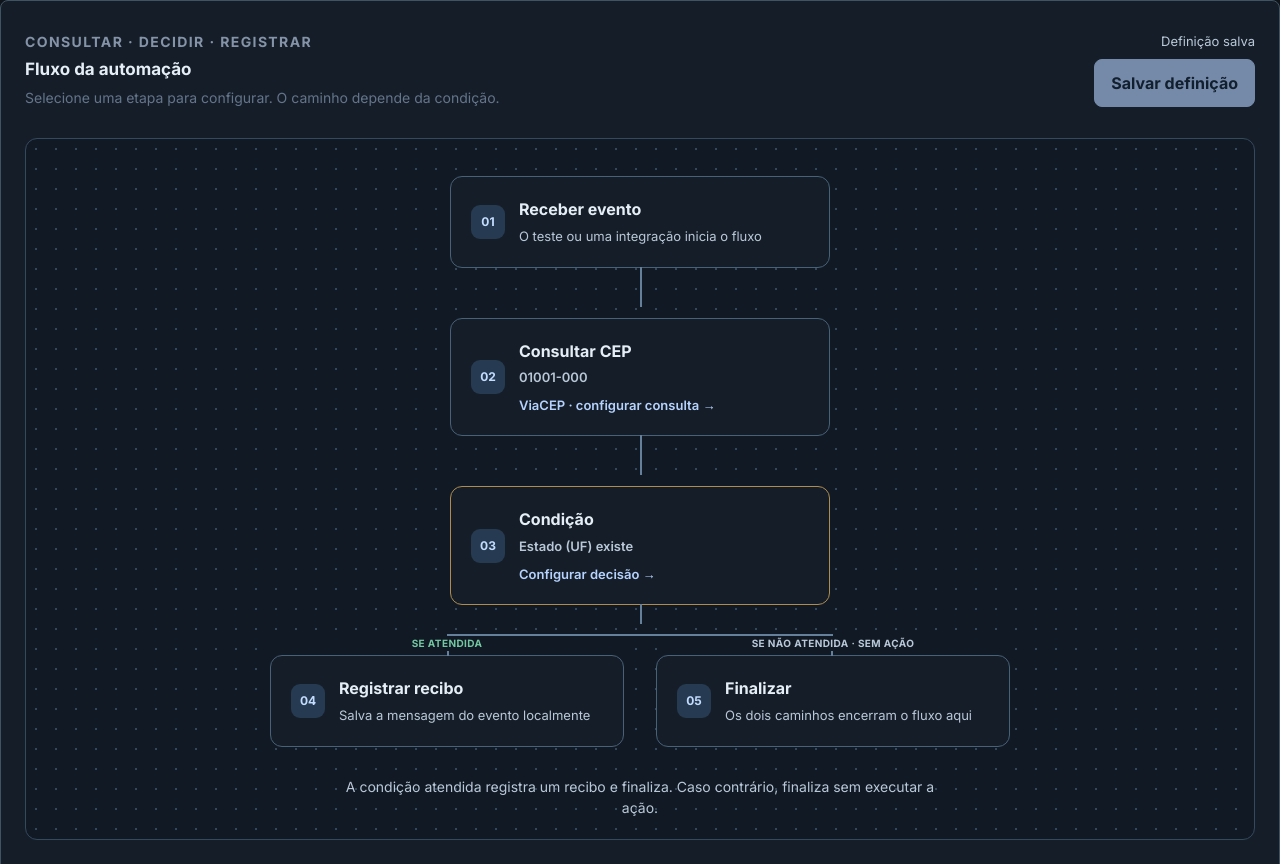
Test: ViaCEP editor integration › validates fixed CEP and retains the inspector draft on Escape with focus restored
Click the button "02 Consultar CEP 01001-000 ViaCEP · configurar consulta →": [488, 377] box [451, 319, 829, 436]
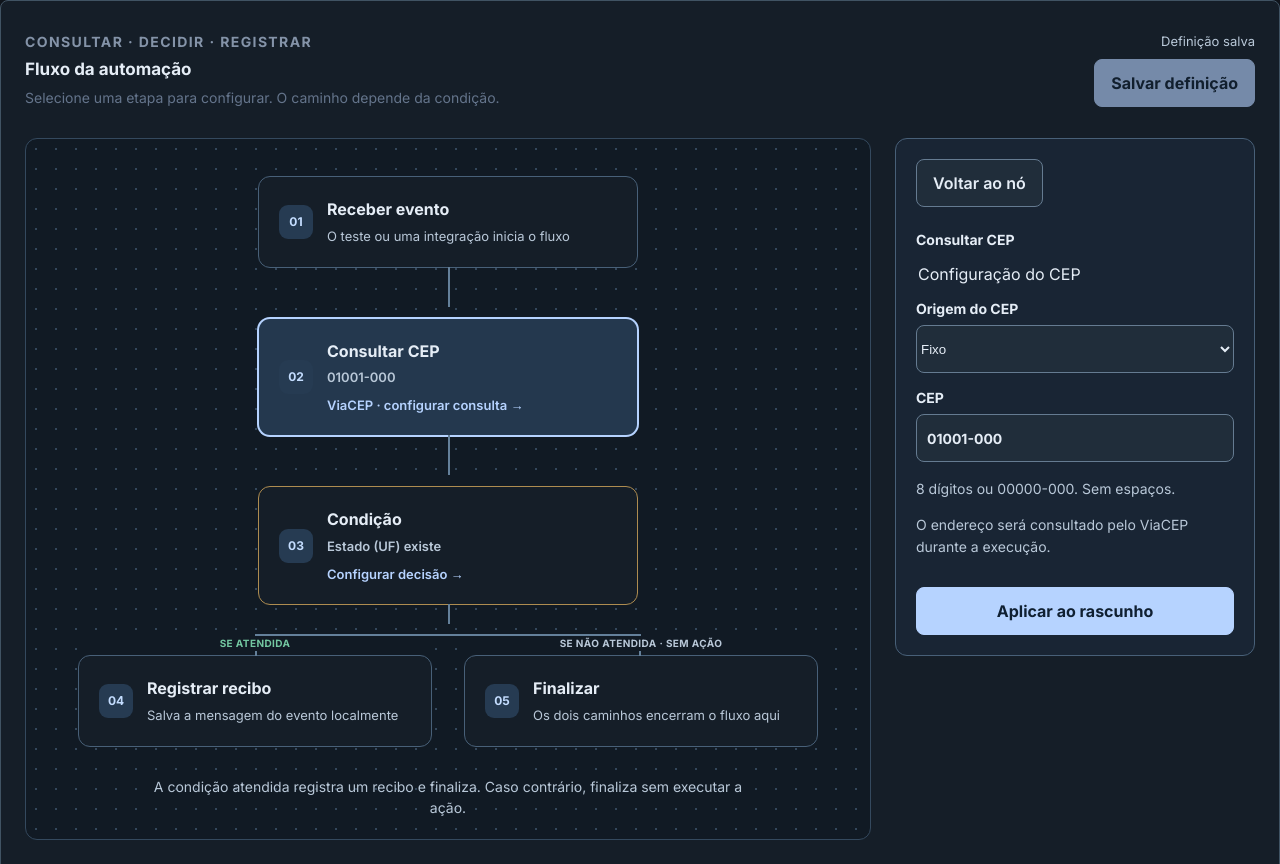
Replace the text in the field labelled "CEP" with " 01001000": [1075, 438] box [916, 414, 1234, 462]
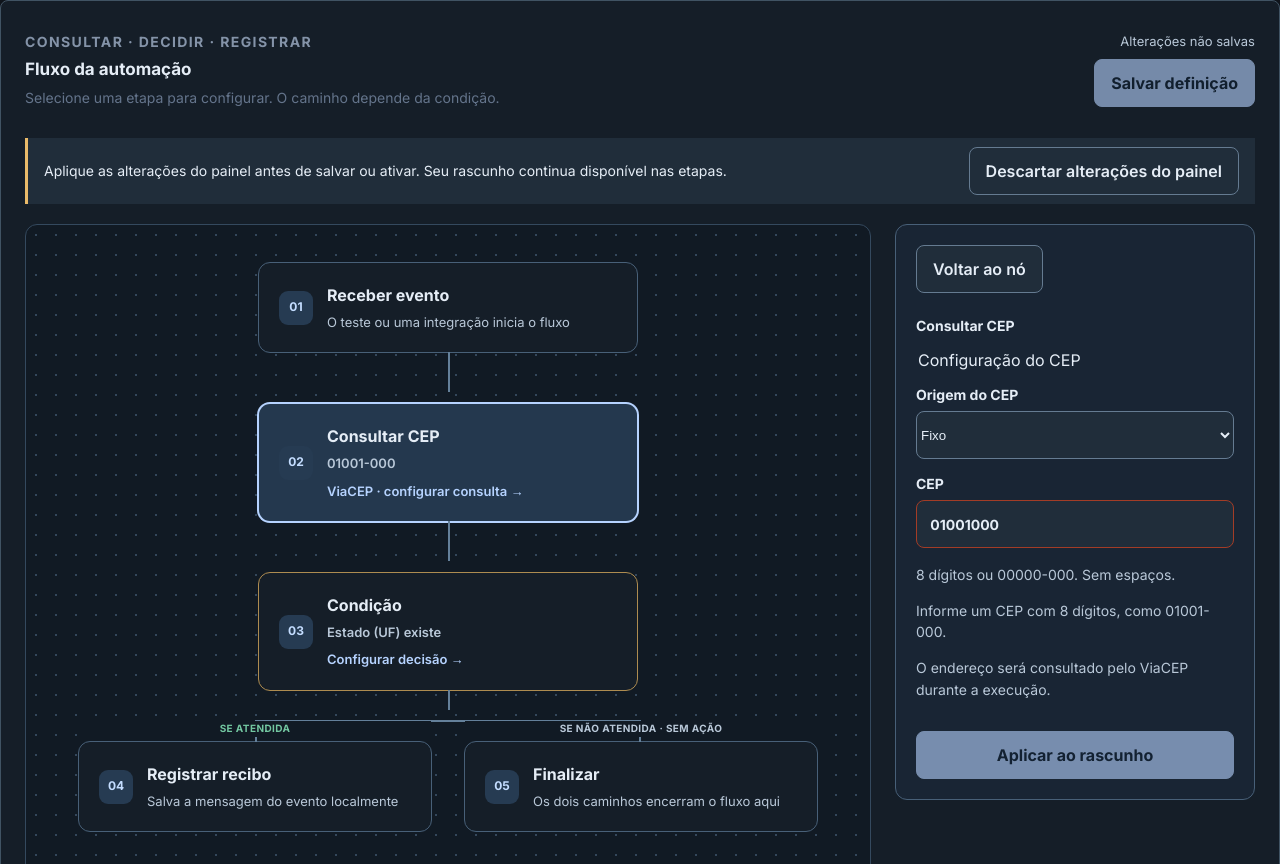
Check: the button "Aplicar ao rascunho" is disabled, box [916, 730, 1234, 778]
Press Escape in the field labelled "CEP", box [916, 500, 1234, 548]
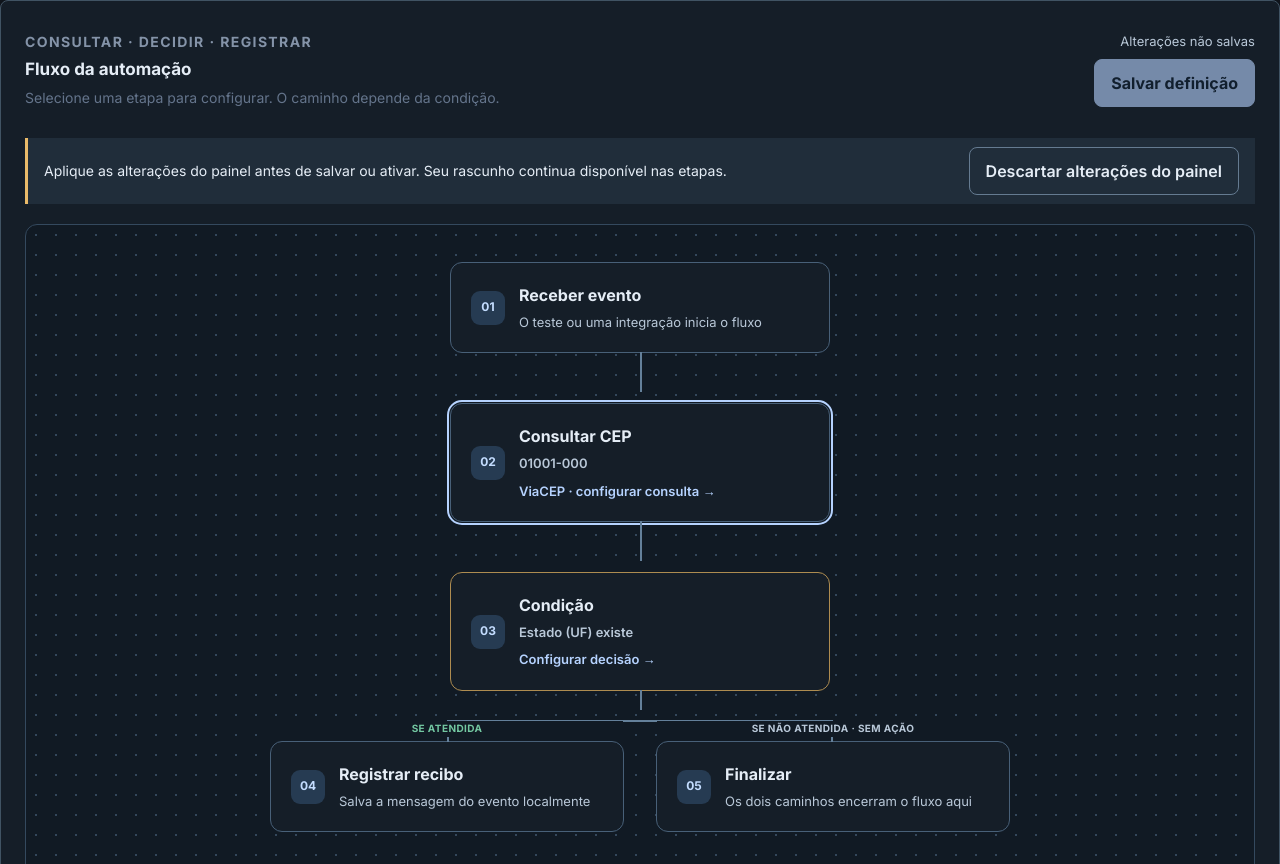
Click the button "02 Consultar CEP 01001-000 ViaCEP · configurar consulta →": [488, 463] box [451, 404, 829, 521]
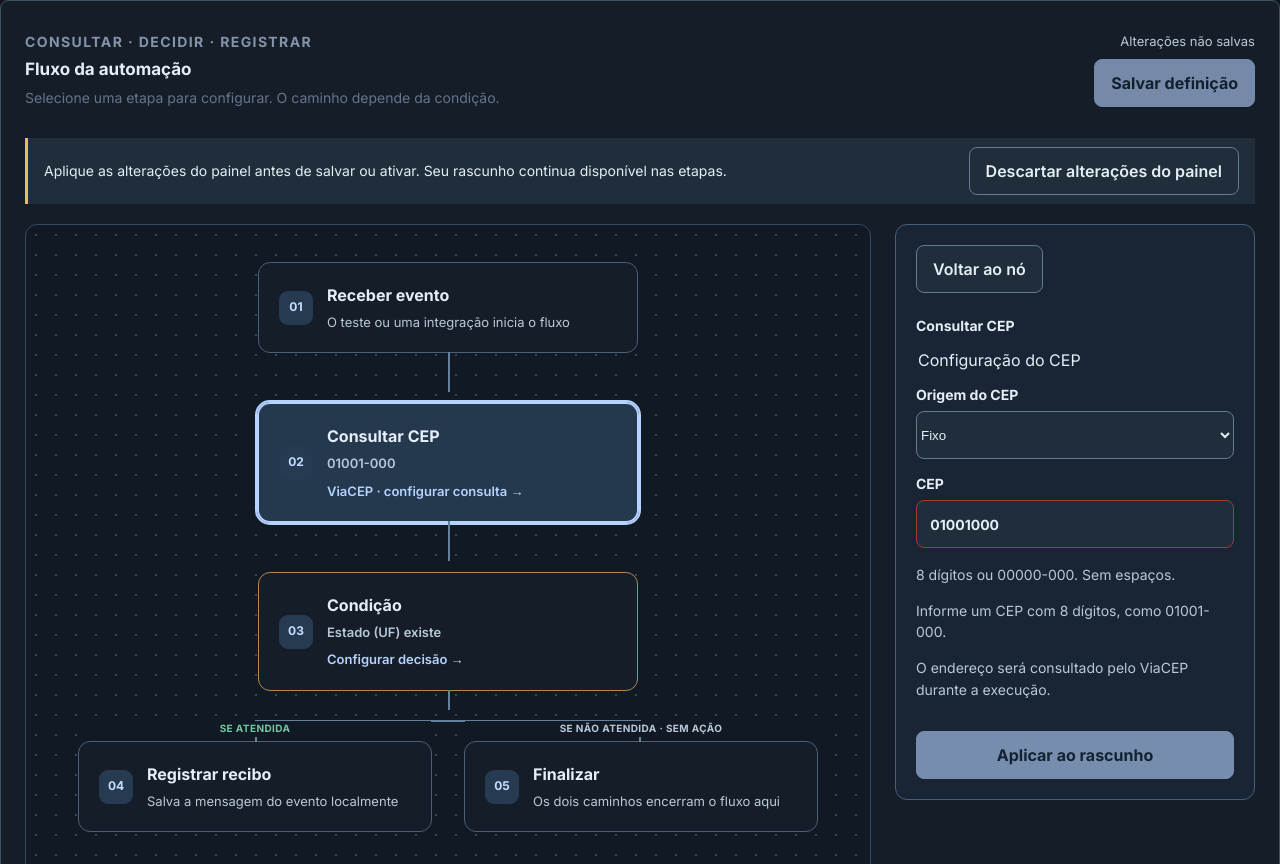
Check: the field labelled "CEP" holds " 01001000", box [916, 500, 1234, 548]
Select "Evento" in the dropdown labelled "Origem do CEP": [1075, 435] box [916, 411, 1234, 459]
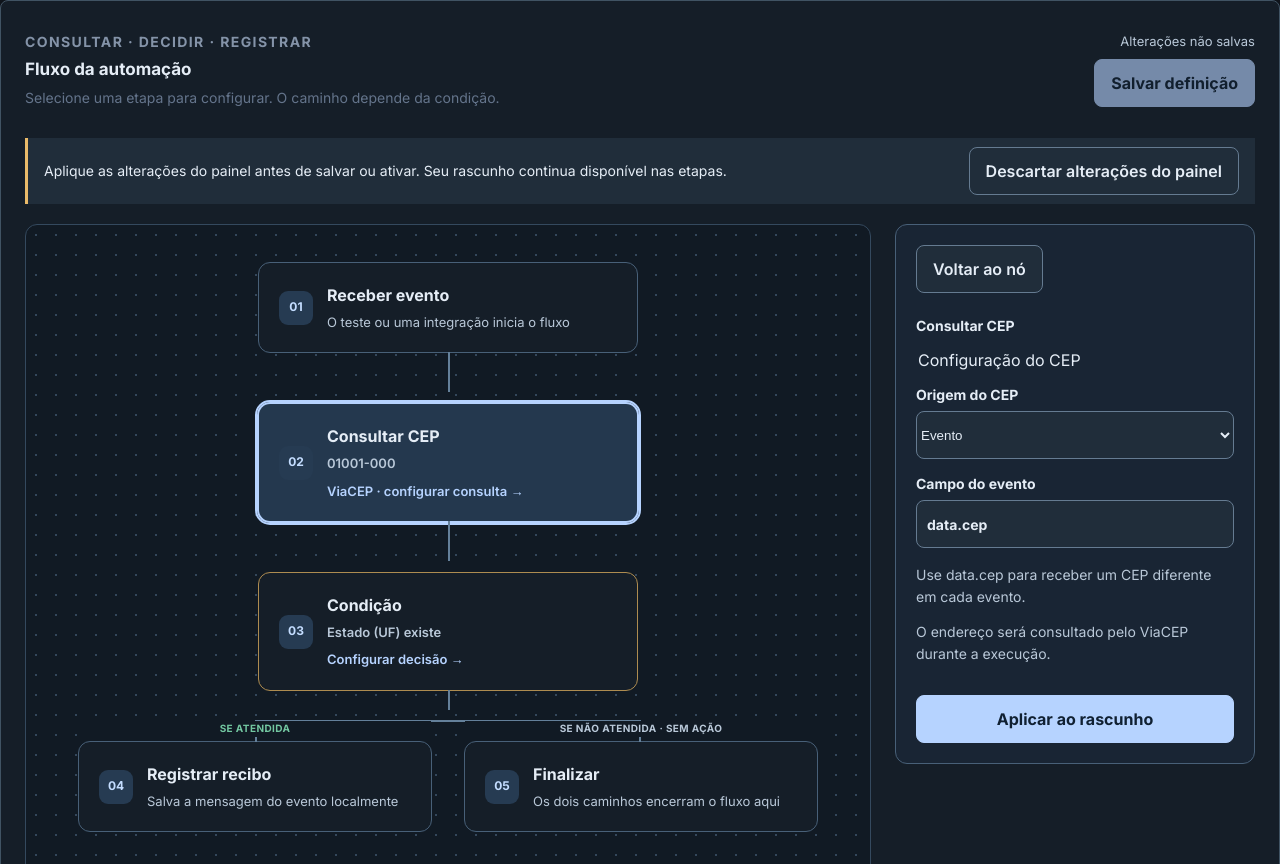
Check: the field labelled "Campo do evento" holds "data.cep", box [916, 500, 1234, 548]
Click the button "Aplicar ao rascunho": [1075, 719] box [916, 695, 1234, 743]
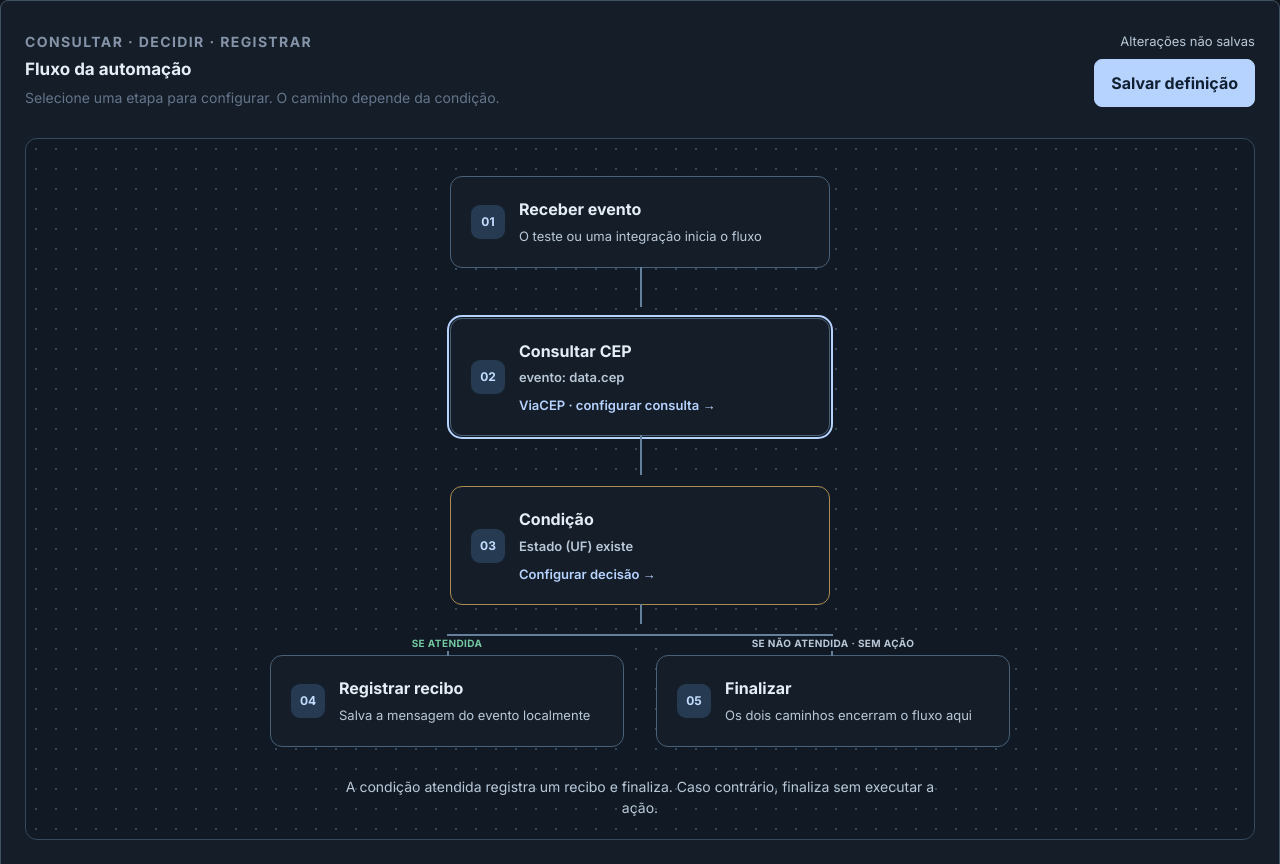
Check: the button "evento: data.cep" is shown, box [451, 319, 829, 436]
